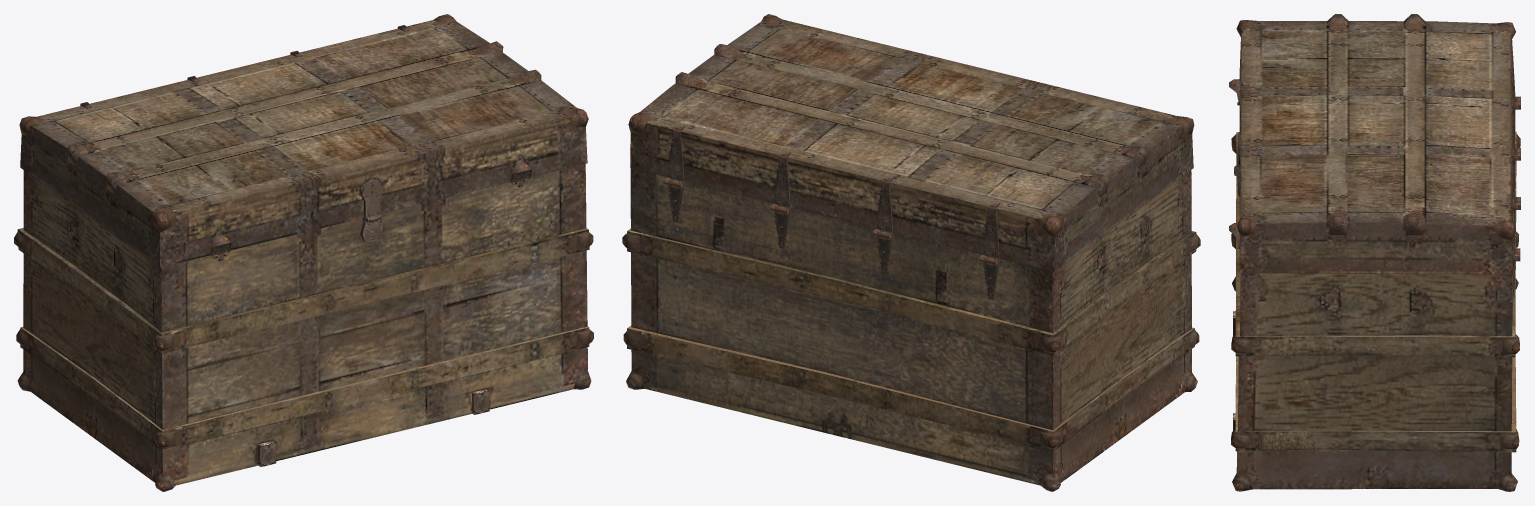
The model's file is sm26_004_woodenbox01a.fbx.
3 renders of one model, left to right at view 1: azimuth 30°, elevation 25°; view 2: azimuth 150°, elevation 25°; view 3: azimuth 270°, elevation 25°, orthographic. The views are drawn at different scales.
Parts seen in each view (by area): view 1: LOD_1_Group_0_Sub_1__sm26_004_WoodenBox01A_A_Mat; view 2: LOD_1_Group_0_Sub_1__sm26_004_WoodenBox01A_A_Mat; view 3: LOD_1_Group_0_Sub_1__sm26_004_WoodenBox01A_A_Mat.
Boxes of the visible parts, left/top/right/bottom form: LOD_1_Group_0_Sub_1__sm26_004_WoodenBox01A_A_Mat: left=14, top=14, right=593, bottom=491; LOD_1_Group_0_Sub_1__sm26_004_WoodenBox01A_A_Mat: left=622, top=14, right=1200, bottom=491; LOD_1_Group_0_Sub_1__sm26_004_WoodenBox01A_A_Mat: left=1229, top=14, right=1520, bottom=491.
Size of the model in its own units: 1.07 by 0.6578 by 0.6296.
